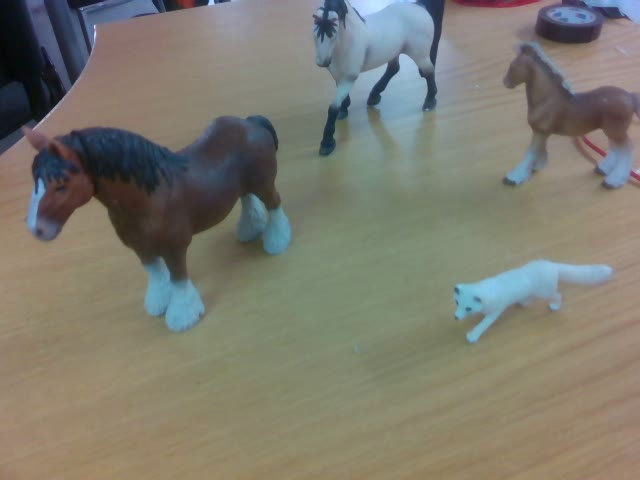toy: (21, 115, 292, 332), (312, 1, 446, 157), (505, 39, 640, 190), (452, 252, 613, 343)
